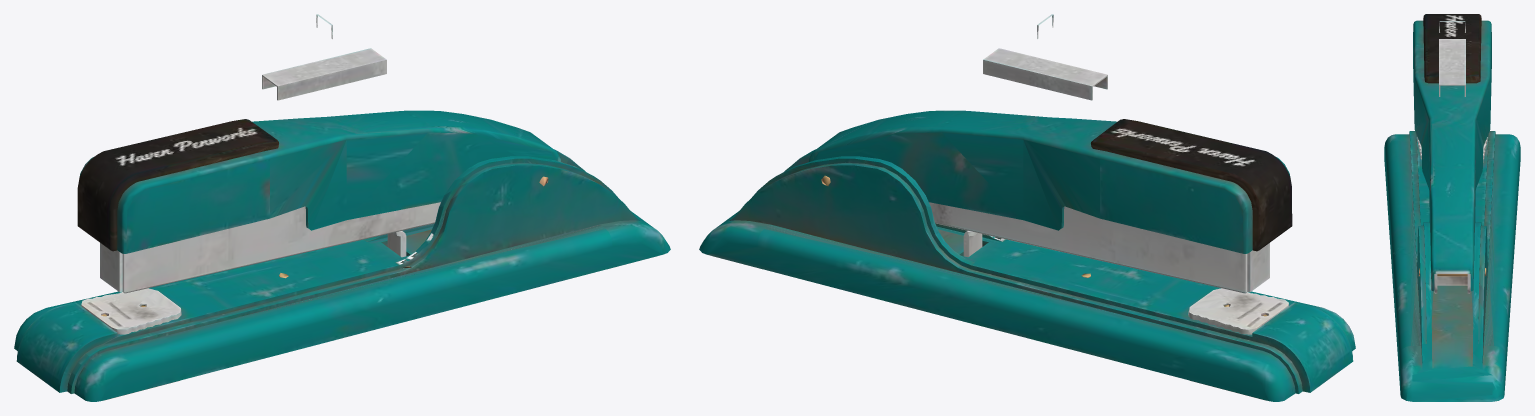
Rendered from vintage-stapler.glb.
3 views of the same model, side by side, from view 1: azimuth 30°, elevation 25°; view 2: azimuth 150°, elevation 25°; view 3: azimuth 270°, elevation 25° (orthographic). The views are drawn at different scales.
Parts seen in each view (by area): view 1: vintage_stapler; view 2: vintage_stapler; view 3: vintage_stapler.
Part boxes in pixels (<box>): vintage_stapler: <box>14,14,670,401</box>; vintage_stapler: <box>699,14,1355,401</box>; vintage_stapler: <box>1384,14,1520,401</box>.
Bounding box in the file's own units: 0.2085 × 0.0951 × 0.0474.
Materials: 1 (1 with a texture image).
